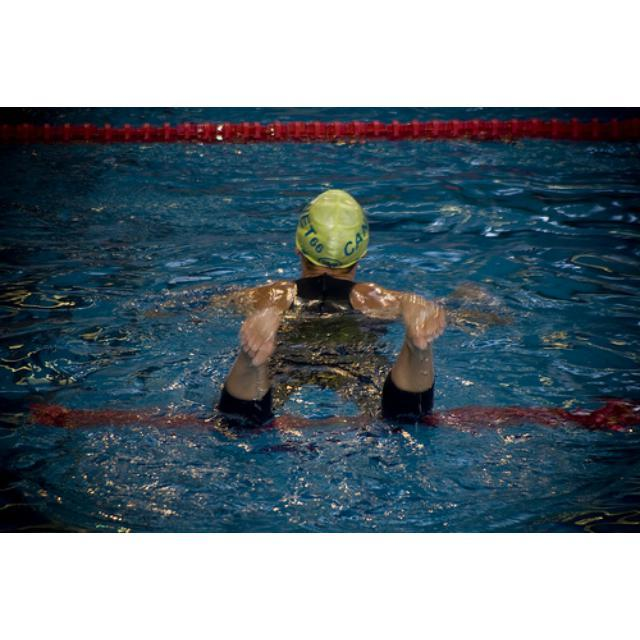human: (213, 188, 449, 431)
